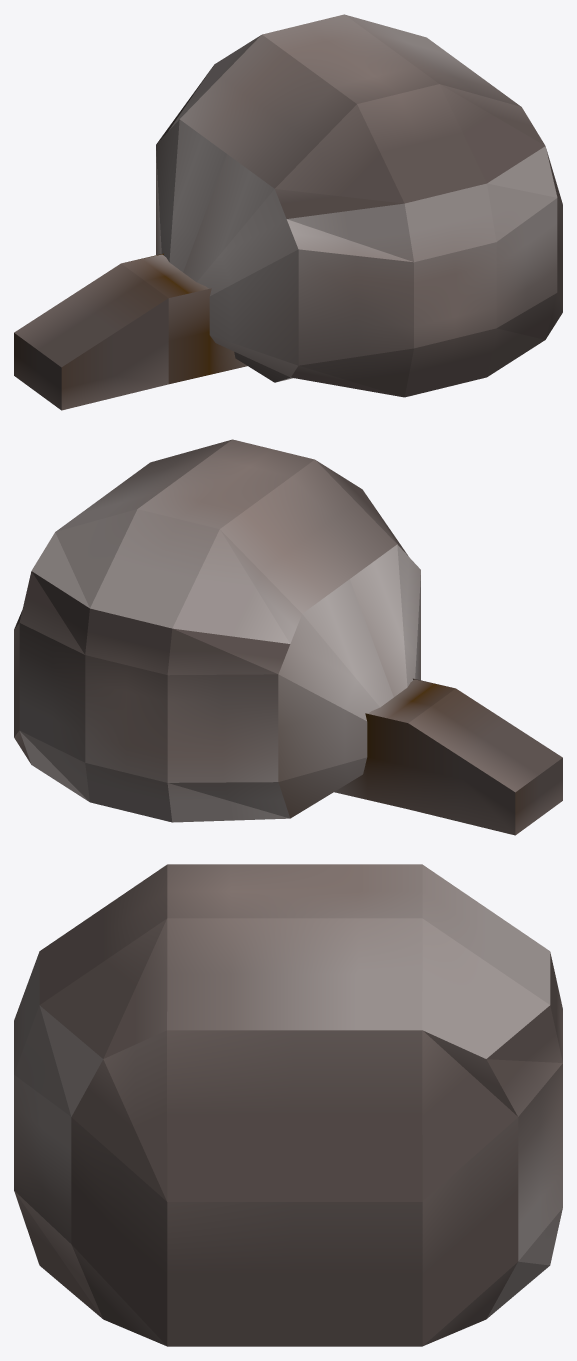
Rendered from bag_side.obj.
3 views of the same model, one above another, from view 1: azimuth 30°, elevation 25°; view 2: azimuth 150°, elevation 25°; view 3: azimuth 270°, elevation 25° (orthographic). The views are drawn at different scales.
Visible parts, largest first — view 1: Default; view 2: Default; view 3: Default.
Boxes of the visible parts, bbox=[...] form: Default: bbox=[14, 14, 562, 410]; Default: bbox=[14, 439, 562, 835]; Default: bbox=[14, 864, 562, 1346].
Size of the model in its own units: 0.725 by 0.3781 by 0.5375.
